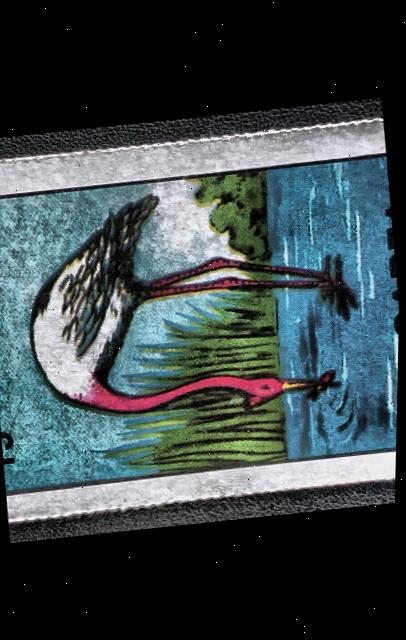La Garza: (0, 132, 404, 510)
